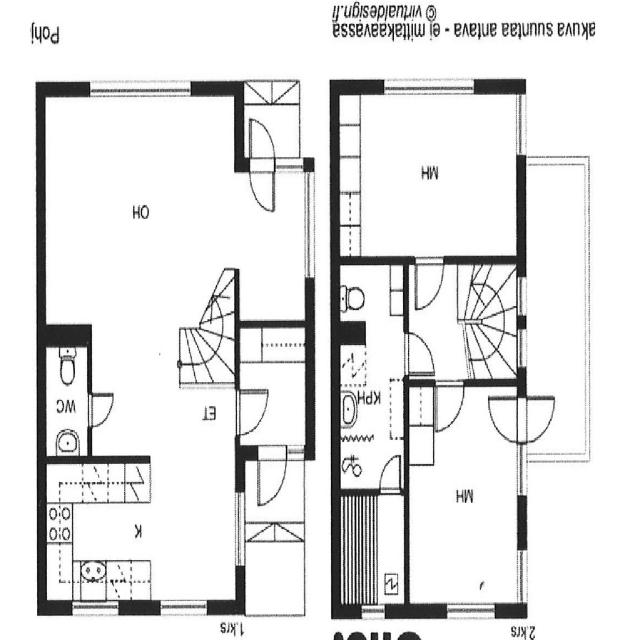door: (247, 115, 277, 215), (255, 446, 289, 511), (234, 384, 272, 442), (410, 254, 447, 313), (433, 378, 466, 435), (402, 327, 437, 379), (522, 393, 556, 446), (486, 392, 520, 444), (85, 388, 118, 433), (378, 451, 403, 494)
window: (85, 81, 196, 111), (298, 168, 318, 287), (230, 487, 248, 574), (384, 76, 476, 92), (157, 596, 211, 622), (512, 88, 530, 163), (444, 600, 498, 624), (514, 543, 532, 609), (68, 601, 120, 619), (515, 442, 529, 502), (516, 271, 529, 324), (516, 326, 530, 374), (358, 602, 389, 621)
zone: (45, 91, 238, 327), (337, 86, 519, 258), (44, 457, 240, 604), (408, 383, 520, 611), (338, 262, 407, 488), (233, 166, 309, 325), (337, 492, 407, 611), (462, 262, 520, 378), (44, 340, 90, 460)
